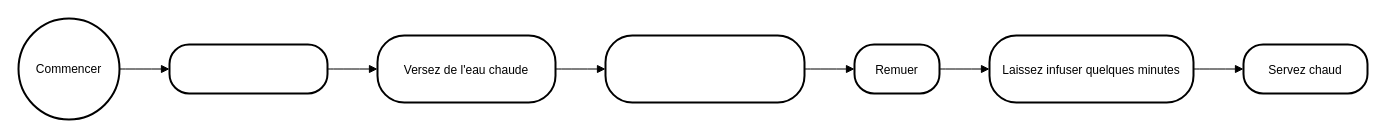
The diagram is 1385 pixels wide and 137 high, and some of its shapes have lost their labels. The shapes that lost their labels are listed below. From the top down, each one's centre as x and y in pixels, then its label:
At (248,68): "Prendre une tasse".
At (704,68): "Ajoutez une cuillère de café moulu".
